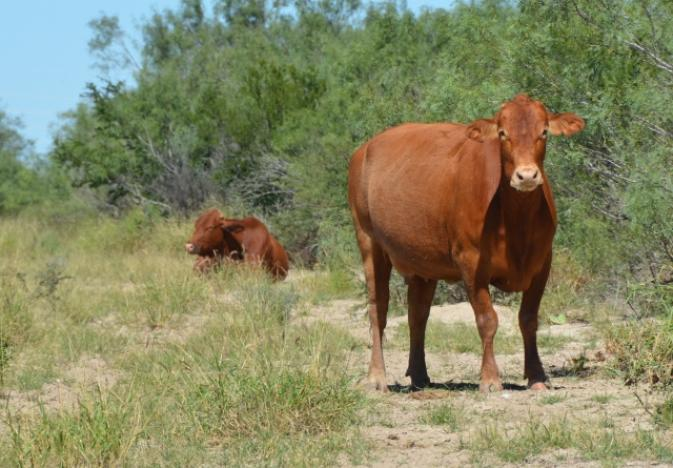muzzles: (506, 163, 546, 195)
